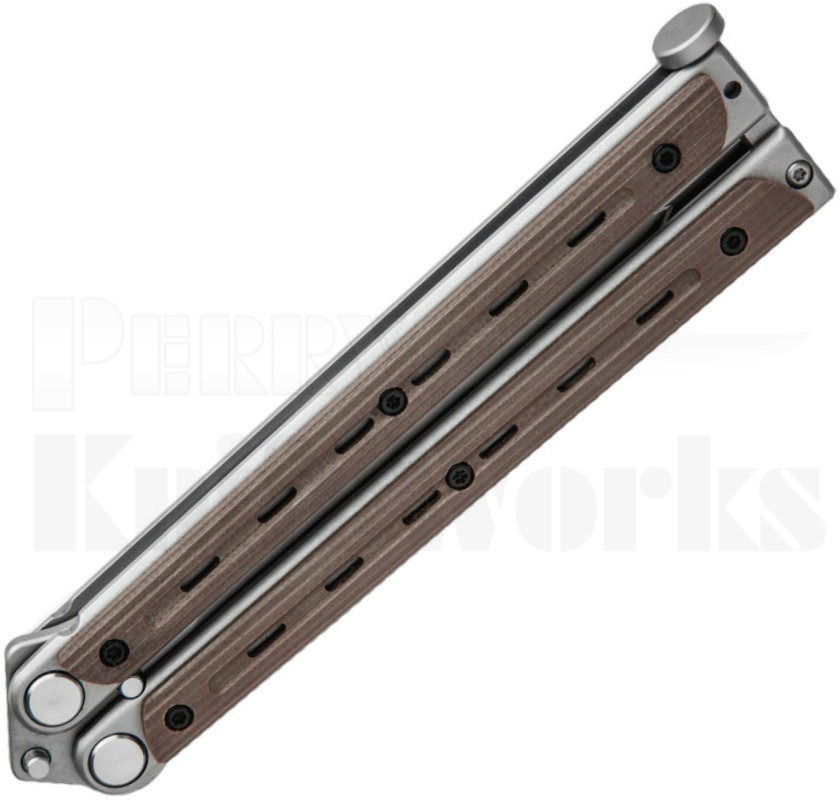knife: (5, 15, 839, 800)
